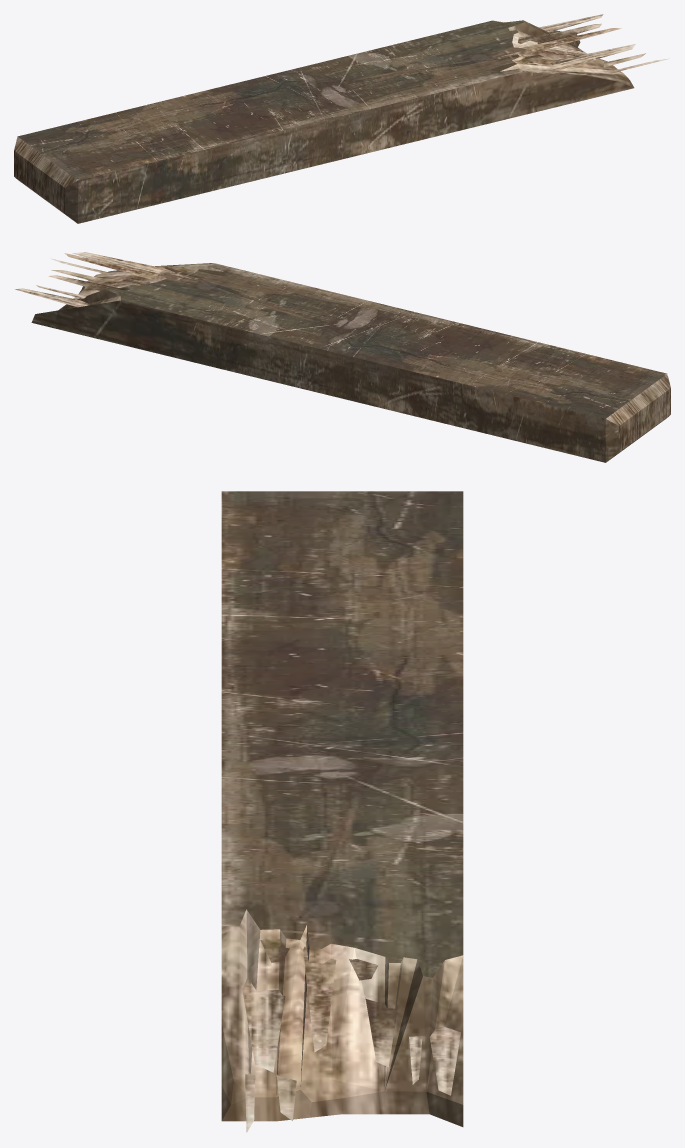
The picture shows the model from 3 angles, top to bottom: view 1: azimuth 30°, elevation 25°; view 2: azimuth 150°, elevation 25°; view 3: azimuth 270°, elevation 25°; orthographic projection. The views are drawn at different scales.
Visible parts, largest first — view 1: SM_SaradominTemple_Roof_Plank_01_v4_LOD0; view 2: SM_SaradominTemple_Roof_Plank_01_v4_LOD0; view 3: SM_SaradominTemple_Roof_Plank_01_v4_LOD0.
Boxes of the visible parts, box(x1,y1,x2,y2) form: SM_SaradominTemple_Roof_Plank_01_v4_LOD0: box(14, 14, 669, 223); SM_SaradominTemple_Roof_Plank_01_v4_LOD0: box(15, 252, 670, 462); SM_SaradominTemple_Roof_Plank_01_v4_LOD0: box(221, 491, 463, 1132).
Size of the model in its own units: 2.98 by 0.2031 by 0.5139.
Materials: 1 (1 with a texture image).
